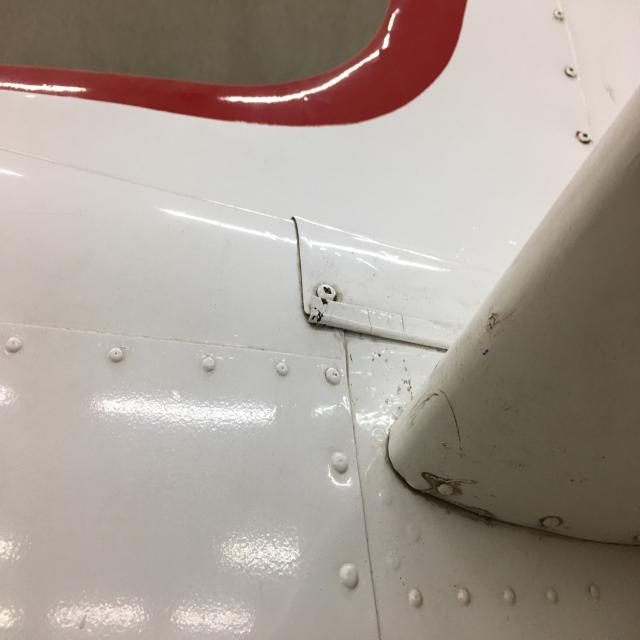Rupture: (398, 276, 587, 542), (294, 284, 428, 346)
